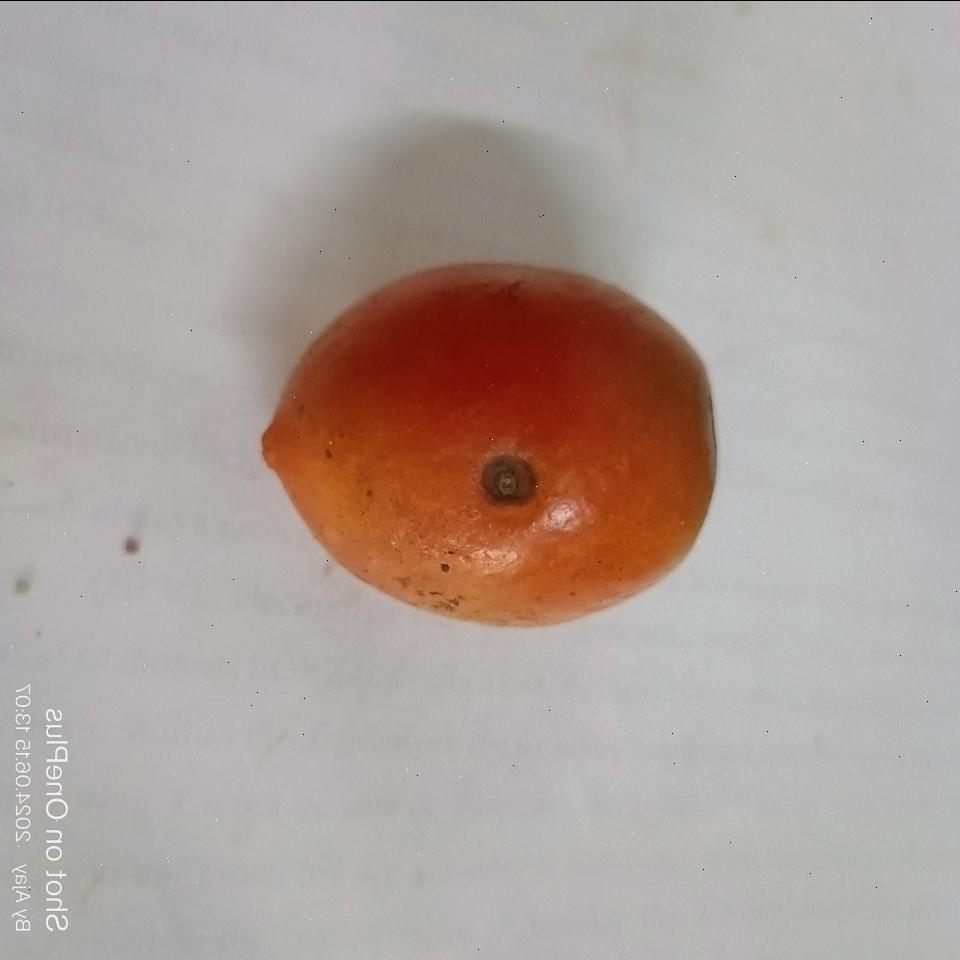Bacterial_Spot: (478, 450, 540, 506)
